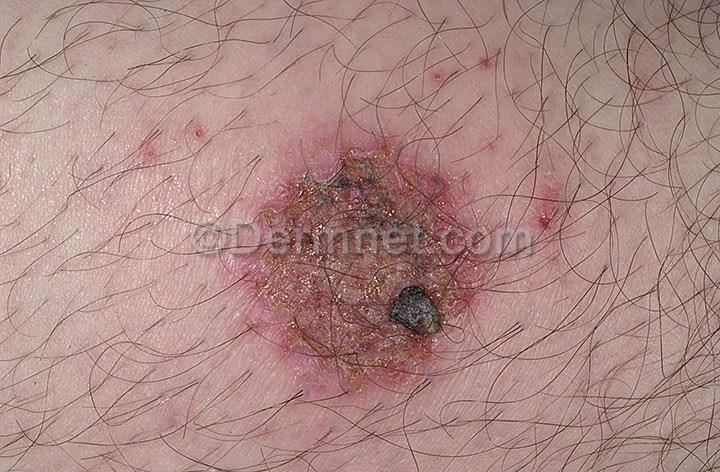Eczema: (184, 89, 487, 394), (525, 167, 590, 254), (123, 118, 175, 194), (402, 51, 455, 102), (458, 22, 506, 71)
